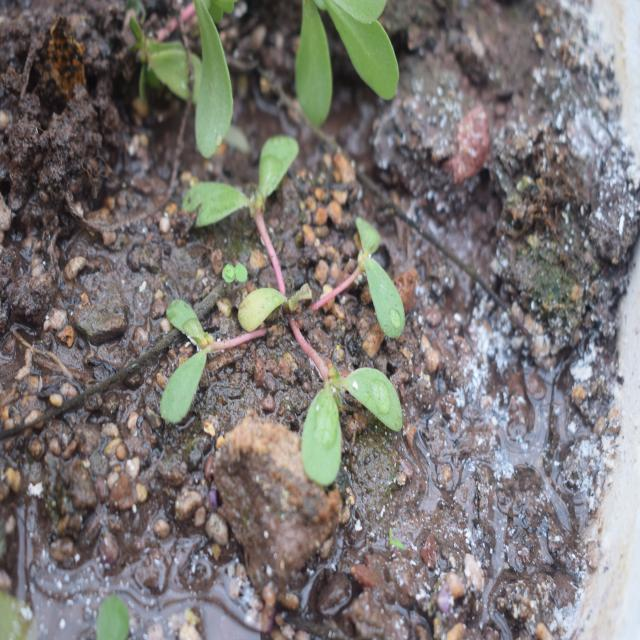purslane: (139, 134, 420, 461)
